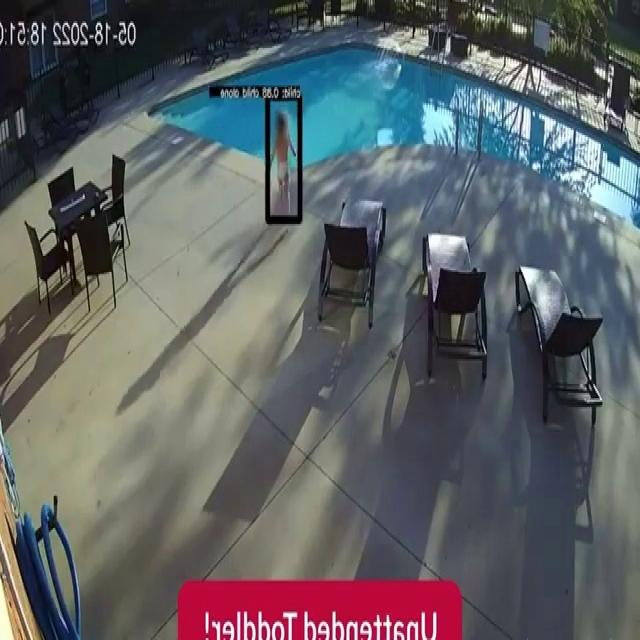child: (266, 102, 300, 216)
